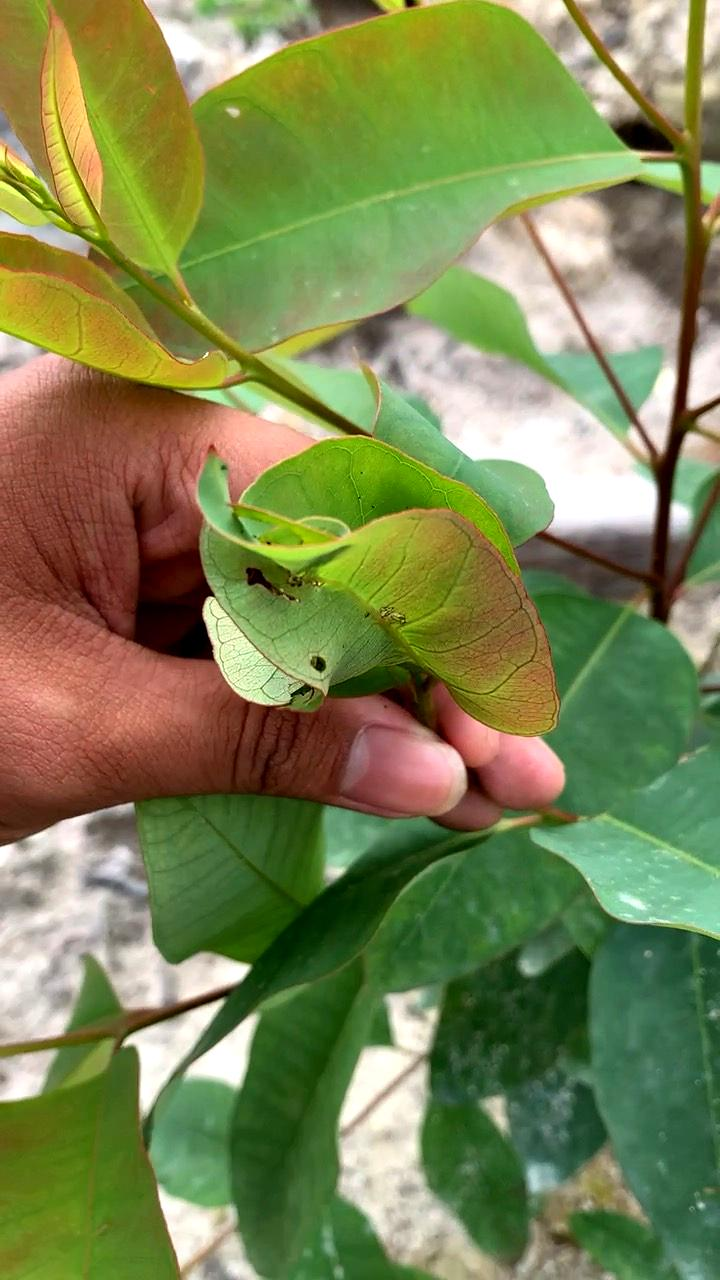Leaf Roller - Leaf: (161, 388, 583, 814)
